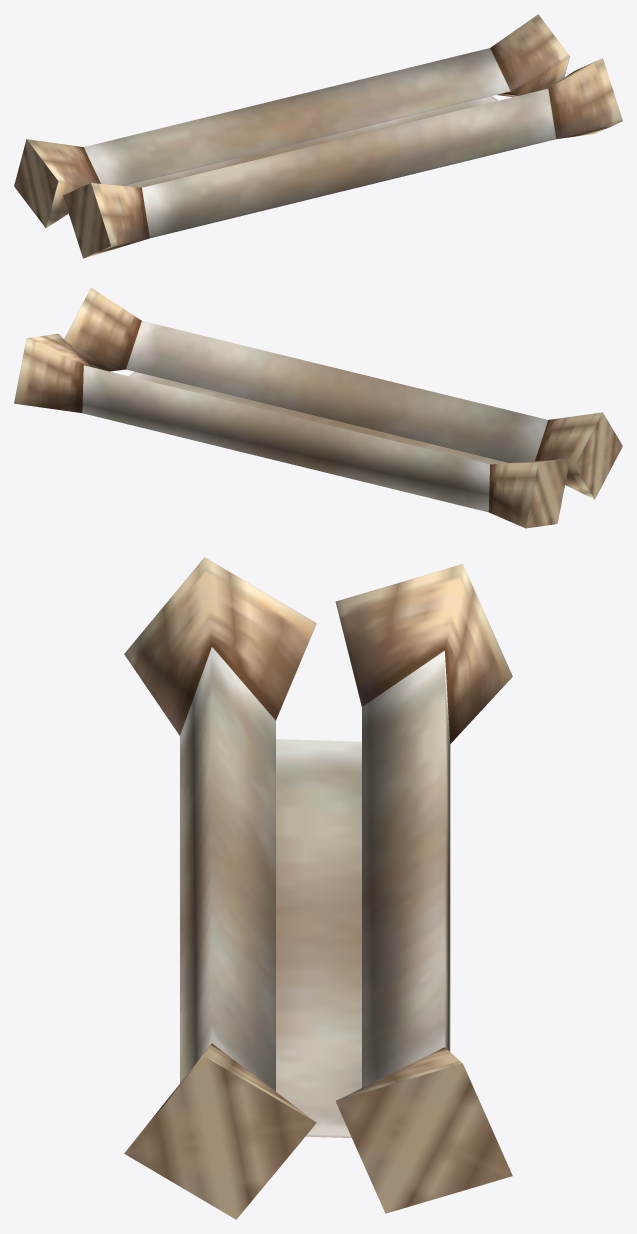
Rendered from scrollb01.obj.
The picture shows the model from 3 angles, top to bottom: view 1: azimuth 30°, elevation 25°; view 2: azimuth 150°, elevation 25°; view 3: azimuth 270°, elevation 25°; orthographic projection. The views are drawn at different scales.
Visible parts, largest first — view 1: scrollb01; view 2: scrollb01; view 3: scrollb01.
Part boxes in pixels (x1=…): scrollb01: x1=14, y1=14, x2=622, y2=258; scrollb01: x1=14, y1=287, x2=622, y2=528; scrollb01: x1=124, y1=557, x2=512, y2=1219.
Size of the model in its own units: 0.9041 by 0.1378 by 0.2974.
Materials: 1 (1 with a texture image).
